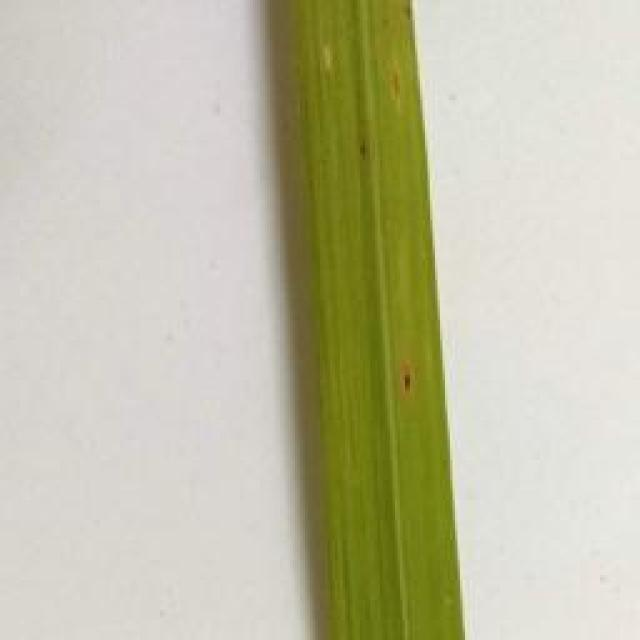Brown_Spot: (384, 350, 424, 400), (365, 141, 384, 180), (377, 69, 402, 94), (351, 142, 378, 163)
